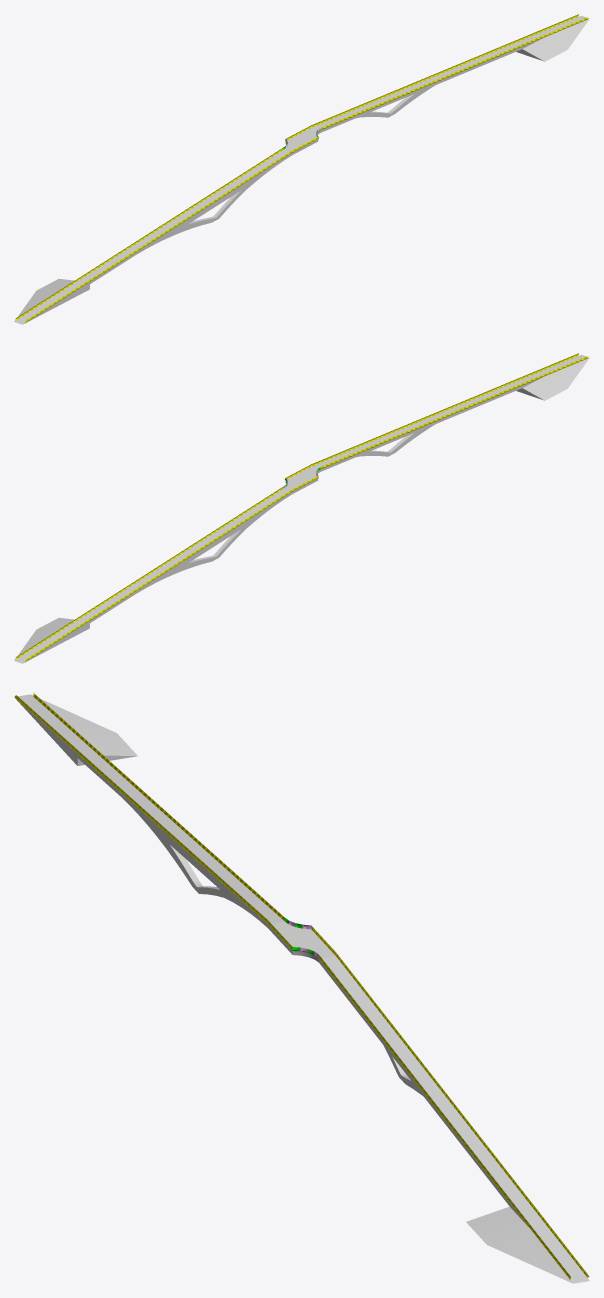
Rendered from bridge.dae.
3 renders of one model, top to bottom at view 1: azimuth 30°, elevation 25°; view 2: azimuth 210°, elevation 25°; view 3: azimuth 270°, elevation 25°, orthographic. The views are drawn at different scales.
Visible parts, largest first — view 1: MESH4, MESH4_NCL1, MESH1; view 2: MESH4_NCL1, MESH4, MESH1; view 3: MESH4_NCL1, MESH4, MESH1.
Boxes of the visible parts, left/top/right/bottom form: MESH4: left=14, top=150, right=292, bottom=324; MESH4_NCL1: left=312, top=15, right=589, bottom=132; MESH1: left=284, top=127, right=320, bottom=154; MESH4_NCL1: left=14, top=489, right=292, bottom=663; MESH4: left=312, top=354, right=589, bottom=471; MESH1: left=284, top=466, right=320, bottom=493; MESH4_NCL1: left=319, top=956, right=589, bottom=1283; MESH4: left=14, top=694, right=284, bottom=927; MESH1: left=268, top=921, right=335, bottom=962.
Bounding box in the file's own units: 315 × 130 × 13.21.
